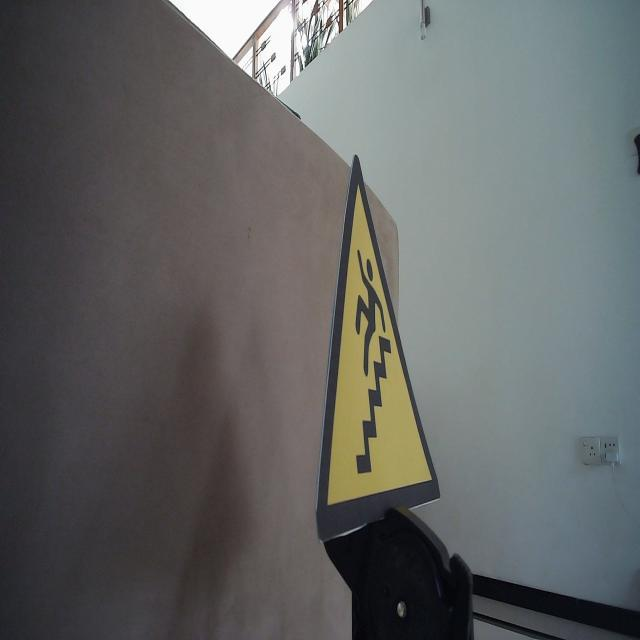stairs: (314, 152, 442, 548)
